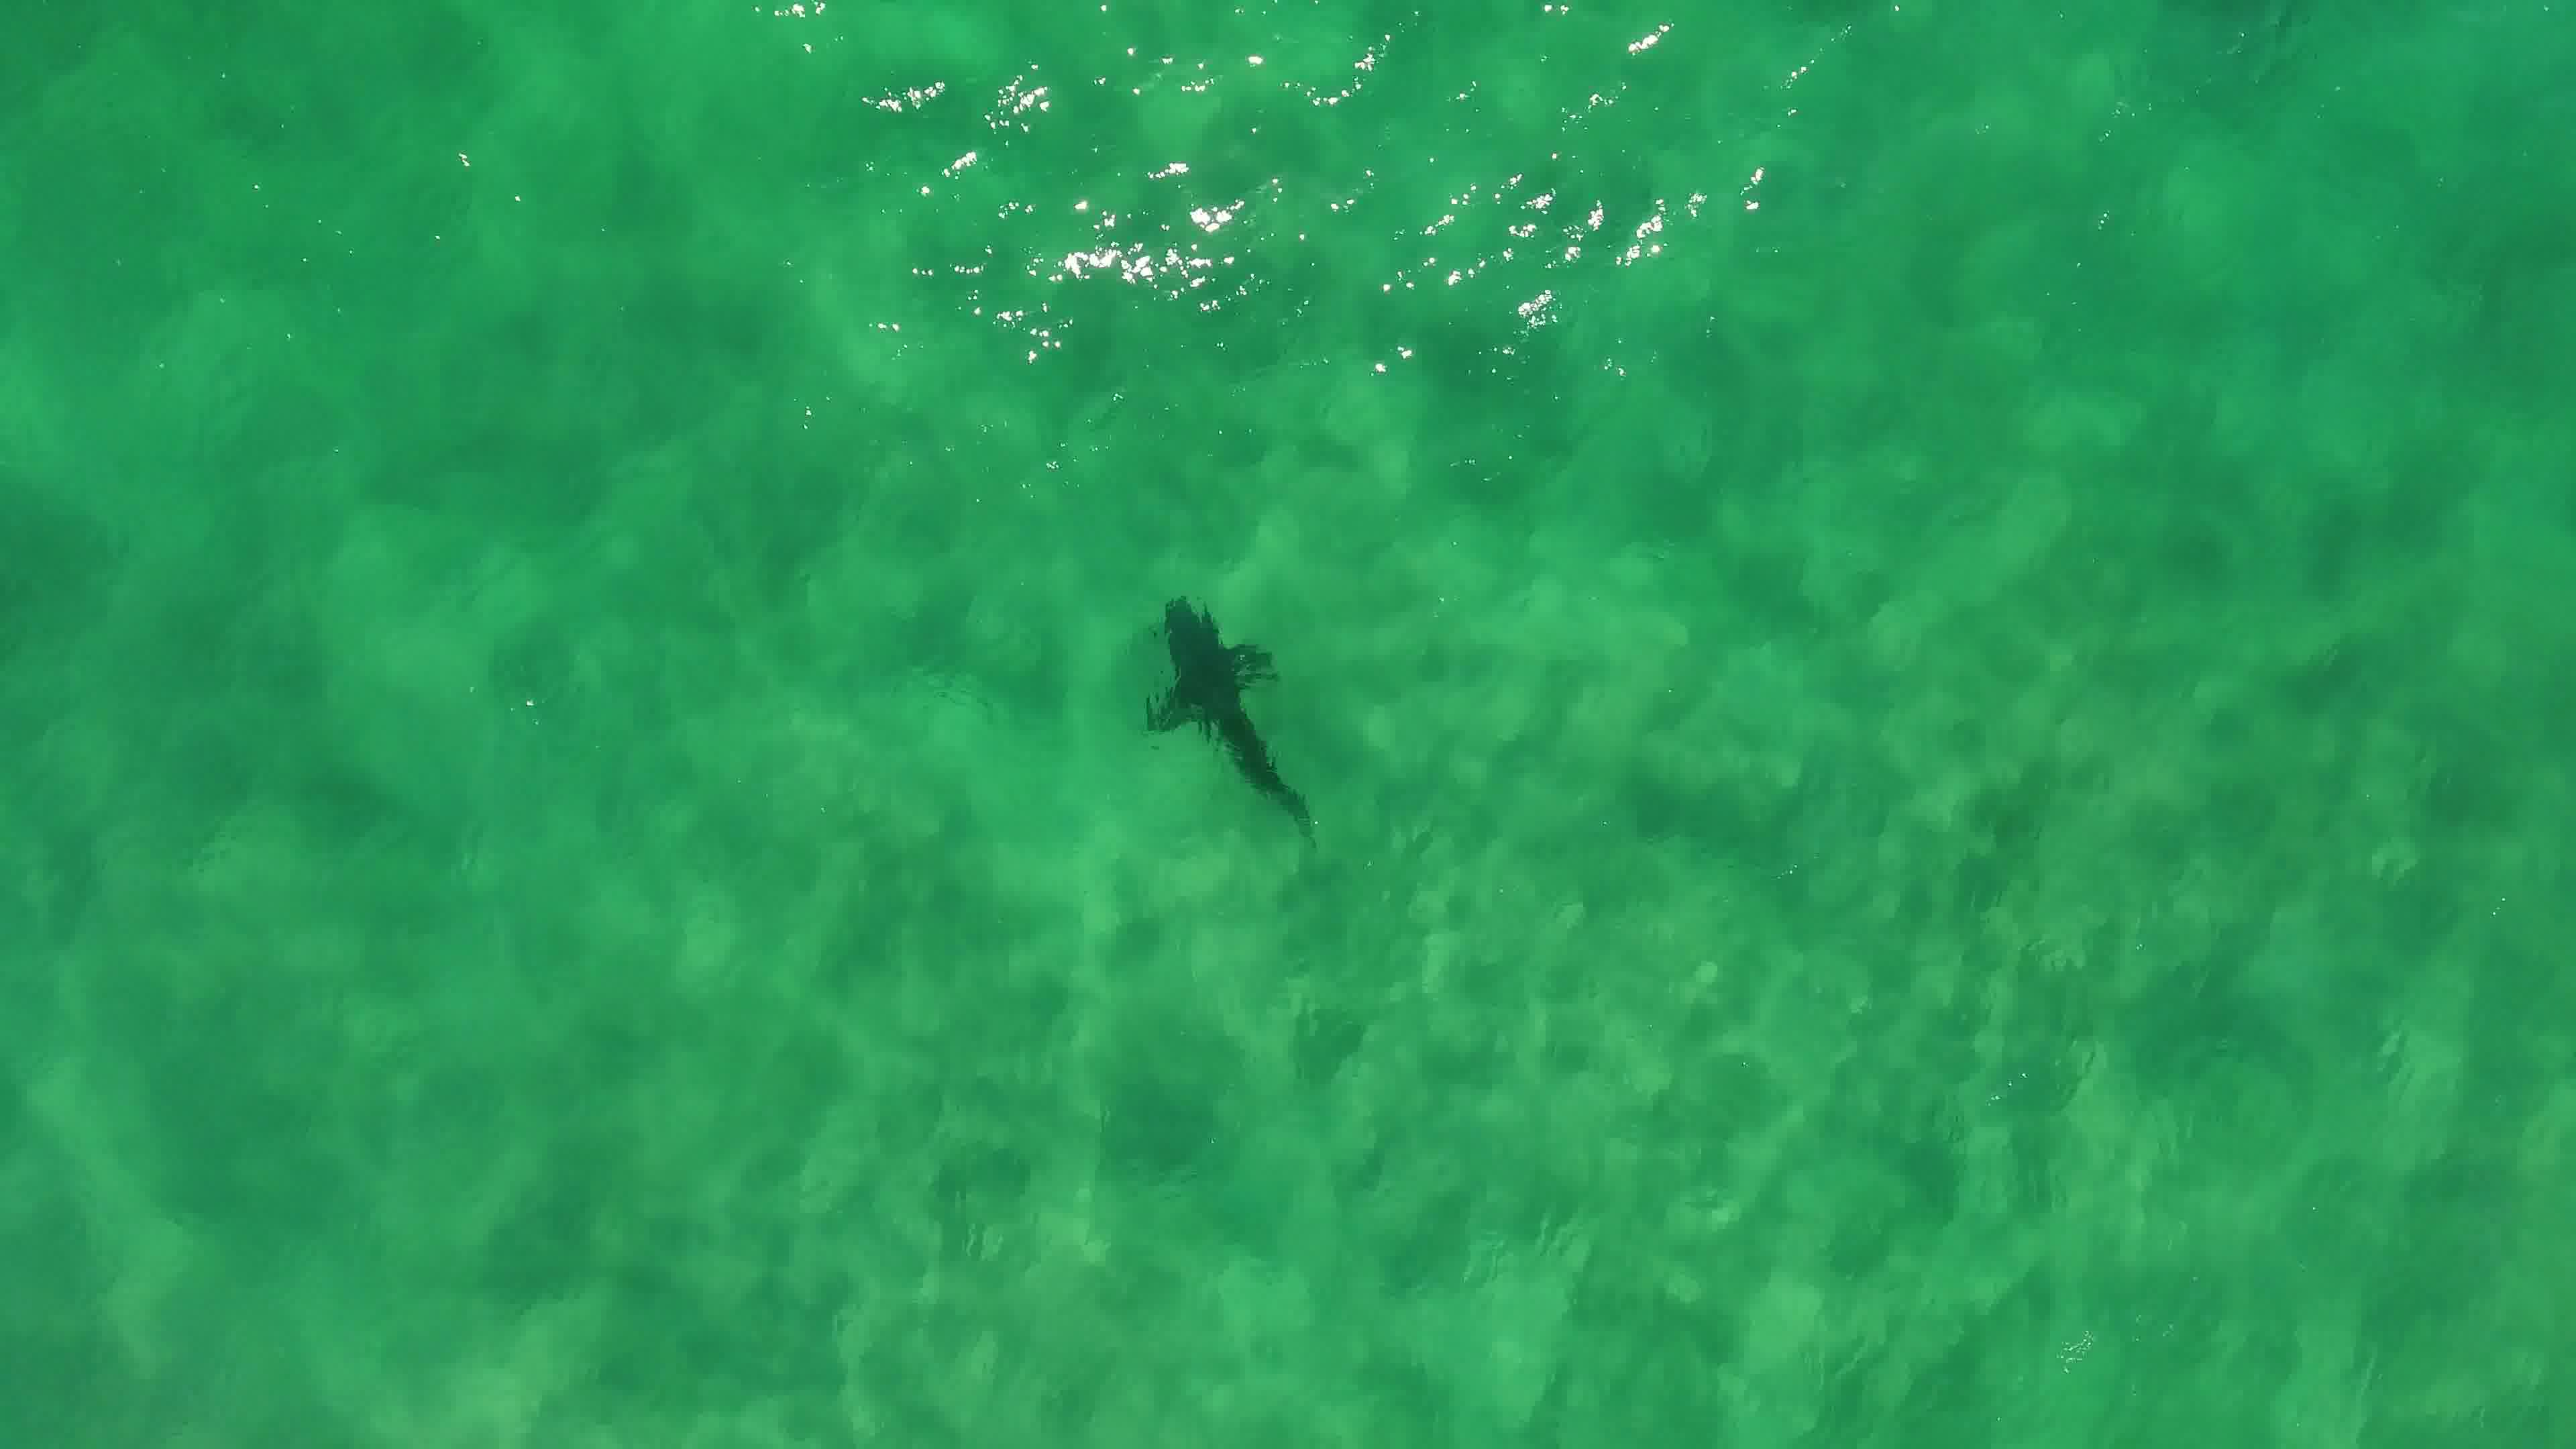shark: (1129, 589, 1323, 835)
